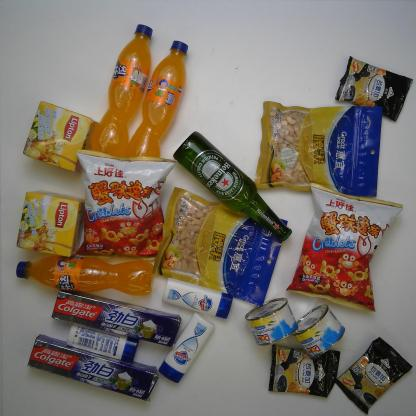Alcohol: (173, 131, 293, 242)
Canned Food: (292, 304, 346, 357), (244, 297, 299, 347)
Dried Fruit: (151, 184, 289, 308), (254, 100, 382, 197)
Drink: (90, 23, 154, 158), (124, 40, 188, 168), (13, 256, 156, 297)
Instant Drink: (335, 335, 413, 414), (22, 100, 98, 173), (335, 54, 413, 123), (15, 190, 84, 257), (266, 342, 340, 397)
Personal Hygiene: (24, 334, 158, 402), (49, 289, 180, 347), (158, 311, 214, 385), (160, 276, 233, 319), (66, 324, 140, 366)
Puffed Food: (284, 180, 404, 314), (72, 149, 175, 264)
